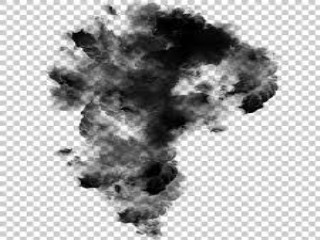smoke: (40, 8, 282, 234)
